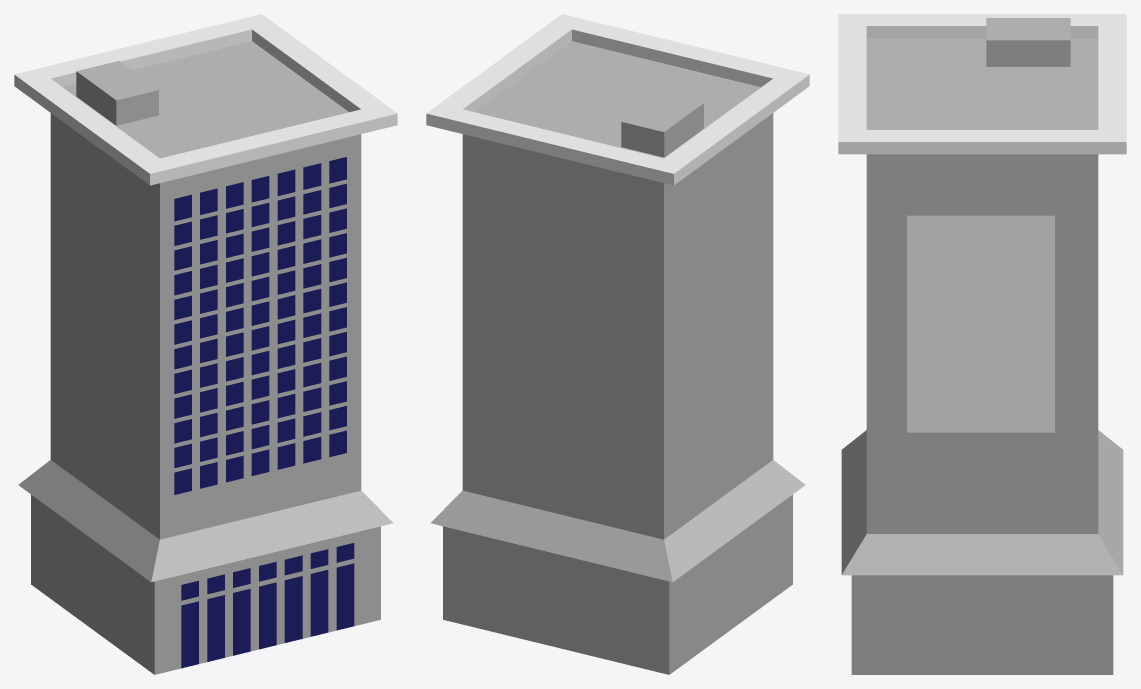
File: buildings_4.dae
The picture shows the model from 3 angles, left to right: view 1: azimuth 30°, elevation 25°; view 2: azimuth 150°, elevation 25°; view 3: azimuth 270°, elevation 25°; orthographic projection. The views are drawn at different scales.
Visible parts, largest first — view 1: group_0 (×13); view 2: group_0 (×7); view 3: group_0 (×6).
Boxes of the visible parts, x1,y1,x2,y2 form: group_0 (×13): (14, 14, 397, 674); group_0 (×7): (426, 14, 809, 674); group_0 (×6): (838, 14, 1126, 674).
Bounding box in the file's own units: 240 × 228 × 482.
